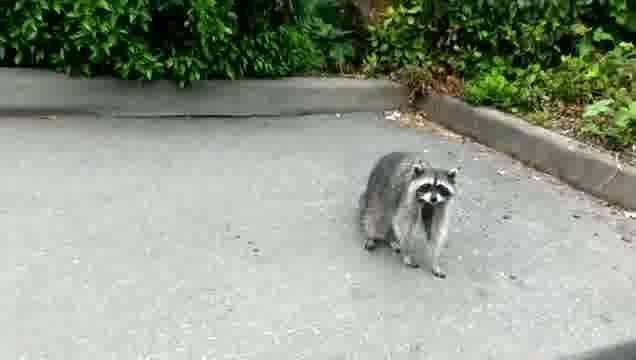raccoon: (356, 149, 462, 280)
